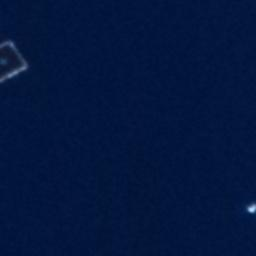square_solid: (1, 36, 36, 88)
